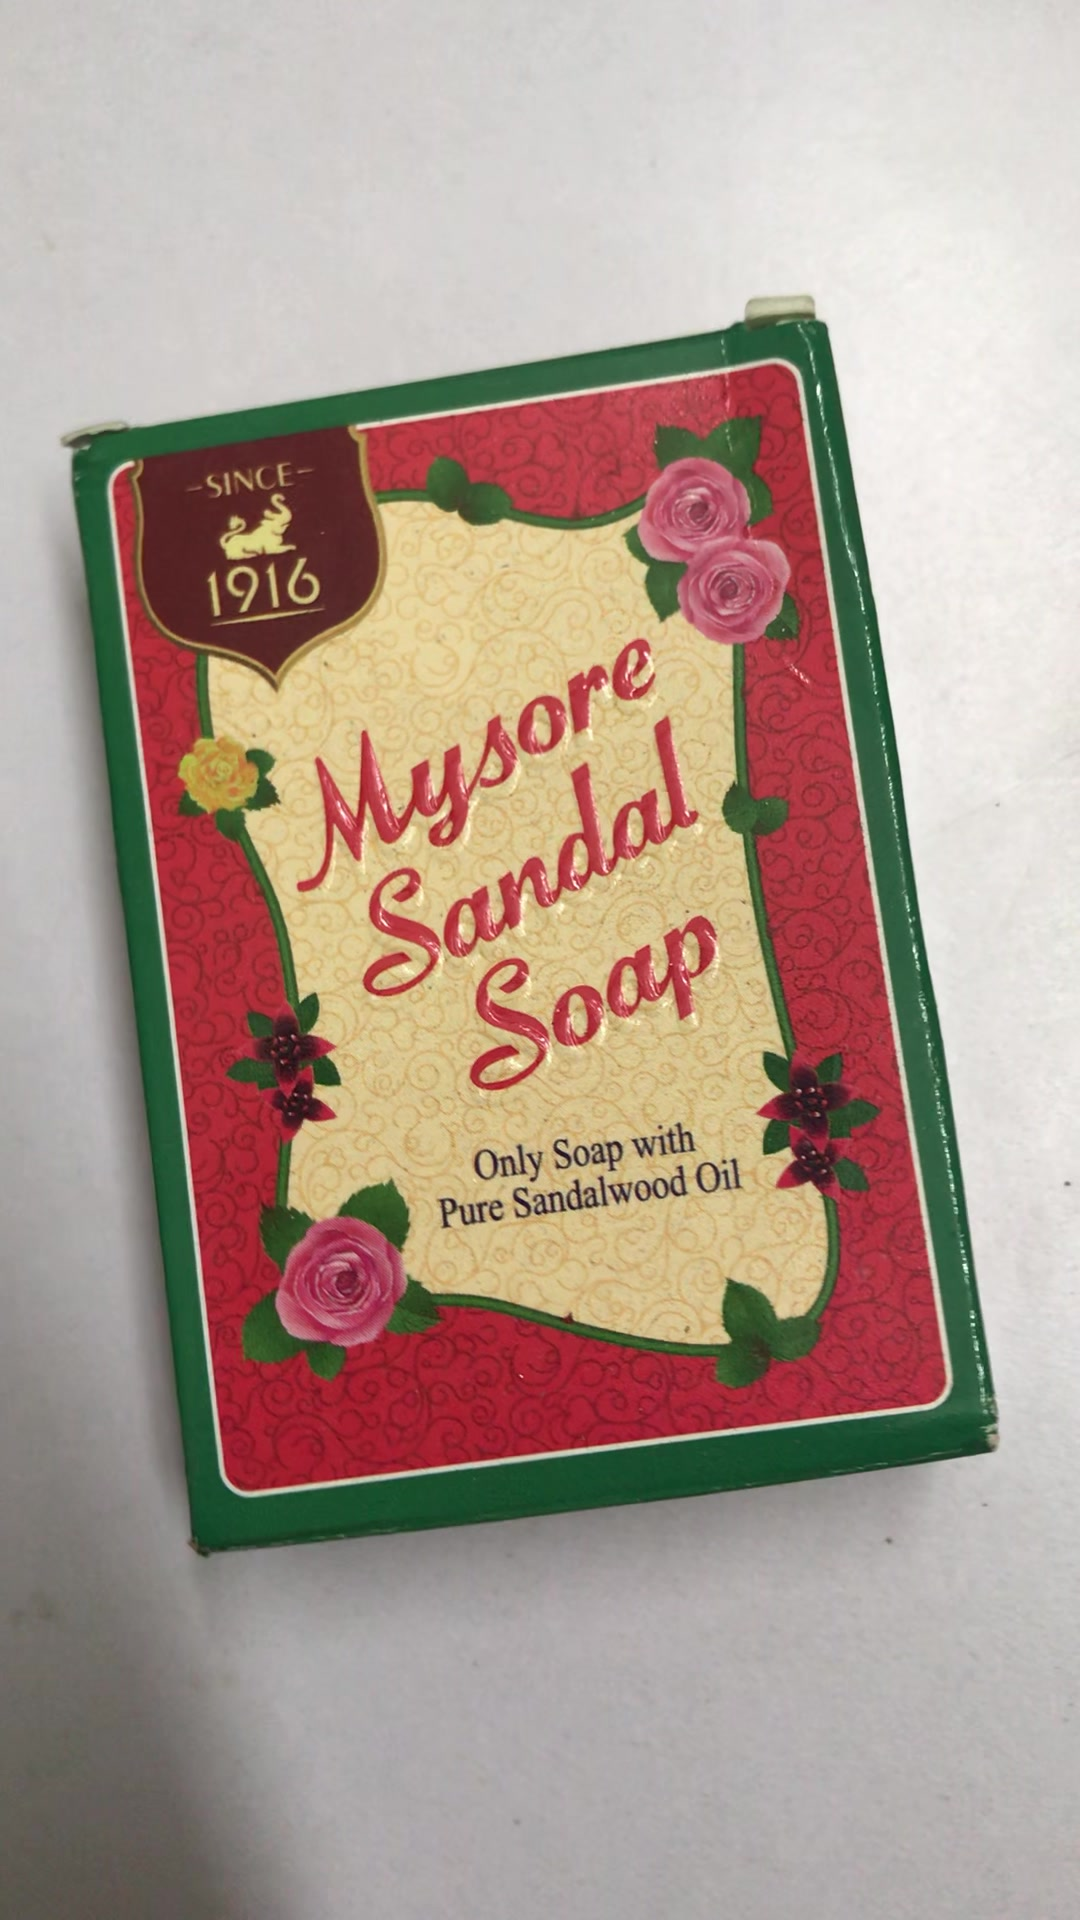mysore sandal soap: (80, 328, 1011, 1557)
